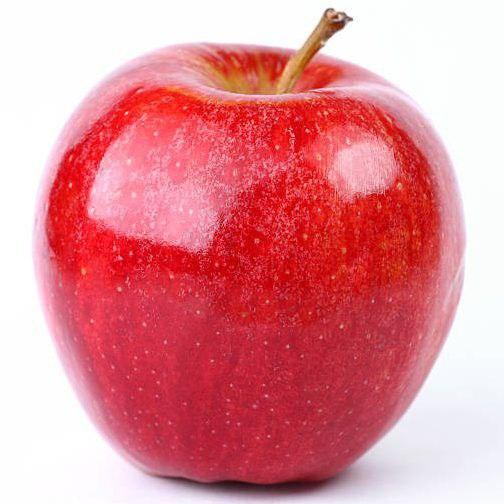Apple: (27, 44, 466, 487)
